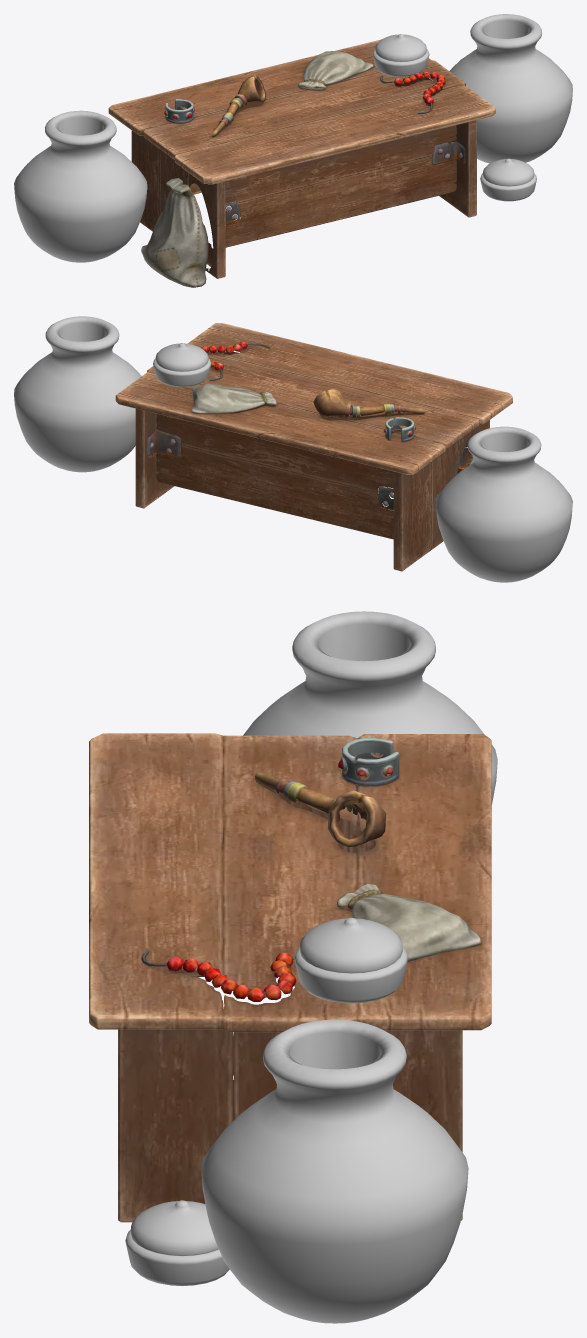
3 views of the same model, one above another, from view 1: azimuth 30°, elevation 25°; view 2: azimuth 150°, elevation 25°; view 3: azimuth 270°, elevation 25° (orthographic). The views are drawn at different scales.
Parts seen in each view (by area): view 1: SM_Moon_Garou_Decoration_Table_01_LOD0; view 2: SM_Moon_Garou_Decoration_Table_01_LOD0; view 3: SM_Moon_Garou_Decoration_Table_01_LOD0.
Part boxes in pixels (box(x1,y1,x2,y2)): SM_Moon_Garou_Decoration_Table_01_LOD0: box(14, 14, 572, 287); SM_Moon_Garou_Decoration_Table_01_LOD0: box(14, 316, 572, 582); SM_Moon_Garou_Decoration_Table_01_LOD0: box(89, 611, 497, 1323).
Bounding box in the file's own units: 3.06 × 0.7959 × 1.02.
